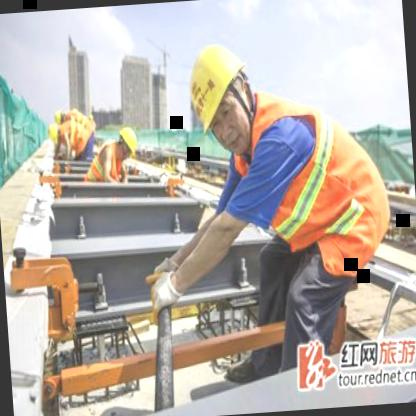helmet: (174, 31, 264, 158), (115, 122, 140, 162), (44, 119, 66, 146)
